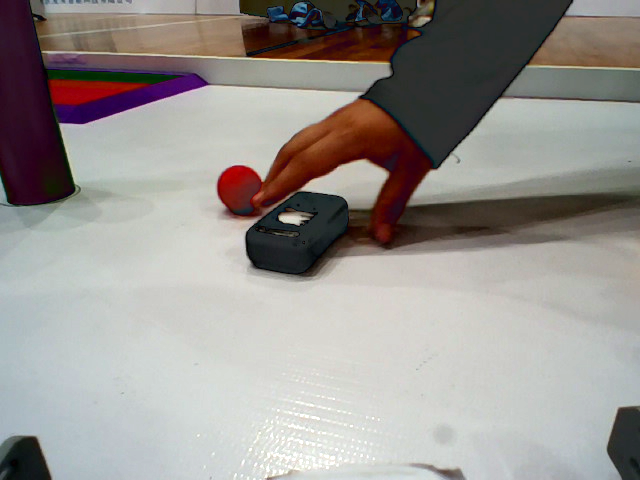black: (235, 188, 361, 288)
kuang: (1, 70, 220, 133)
red: (204, 151, 279, 222)
zhuzi: (1, 1, 104, 213)
